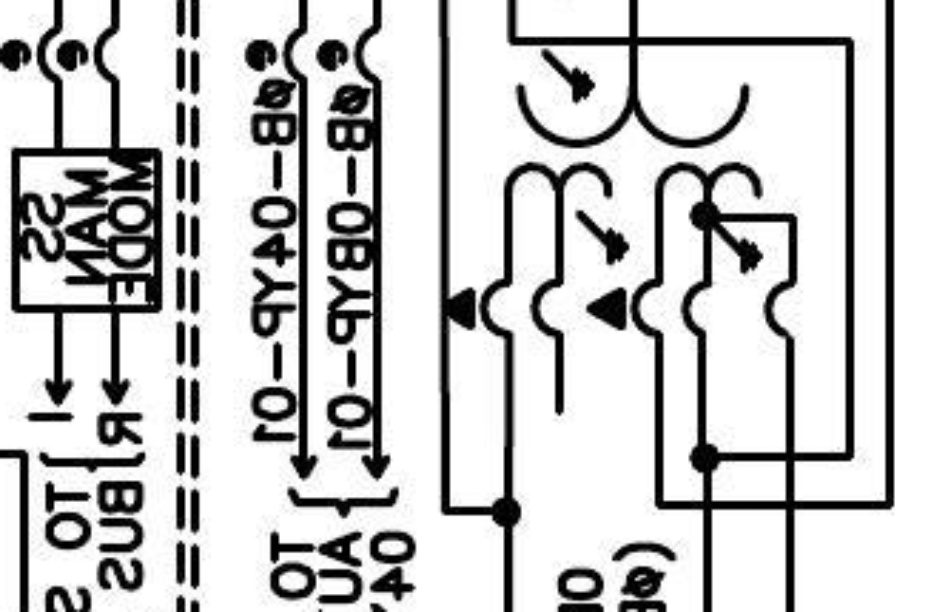115_vt_1p: (441, 46, 766, 342)
ss_man_mode: (8, 144, 165, 316)
